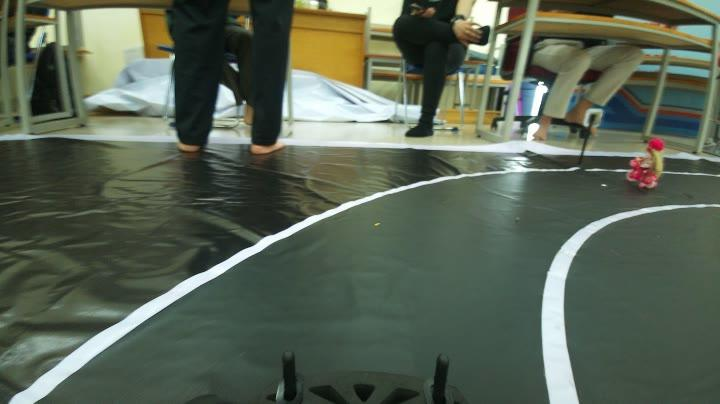pedestrian: (627, 133, 665, 198)
